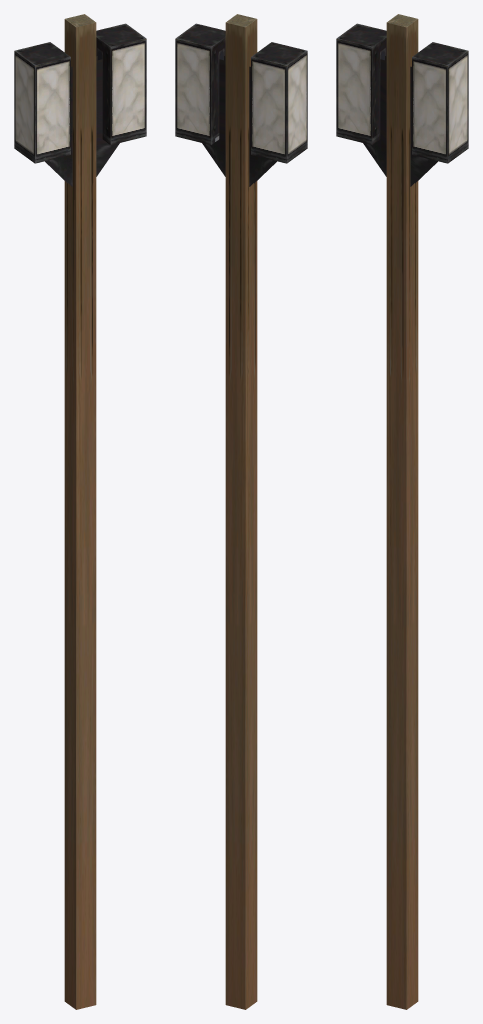
File: mun_all_imprv_streetlamp_lg_s02_l2.fbx
The picture shows the model from 3 angles, left to right: view 1: azimuth 30°, elevation 25°; view 2: azimuth 150°, elevation 25°; view 3: azimuth 330°, elevation 25°; orthographic projection.
Visible parts, largest first — view 1: mesh_node; view 2: mesh_node; view 3: mesh_node.
Part boxes in pixels (x1,y1,x2,y2): mesh_node: (14,14,146,1009); mesh_node: (175,14,307,1009); mesh_node: (336,14,468,1009).
Bounding box in the file's own units: 0.4806 × 4.04 × 0.155.
